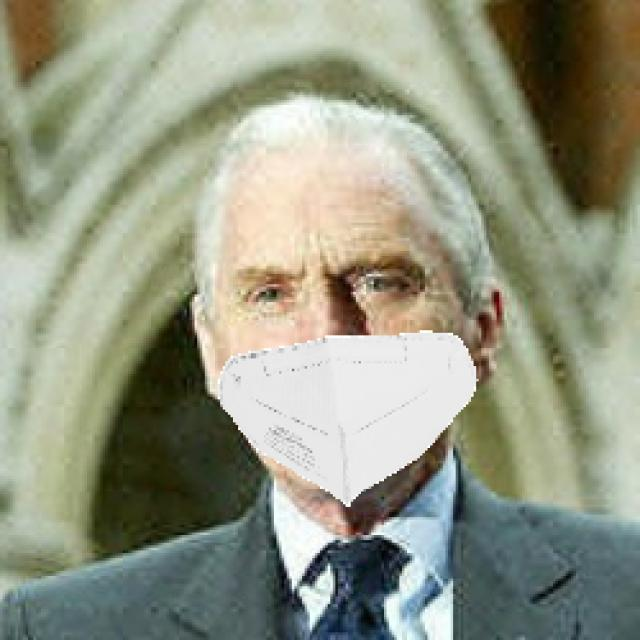mask: (206, 317, 489, 504)
